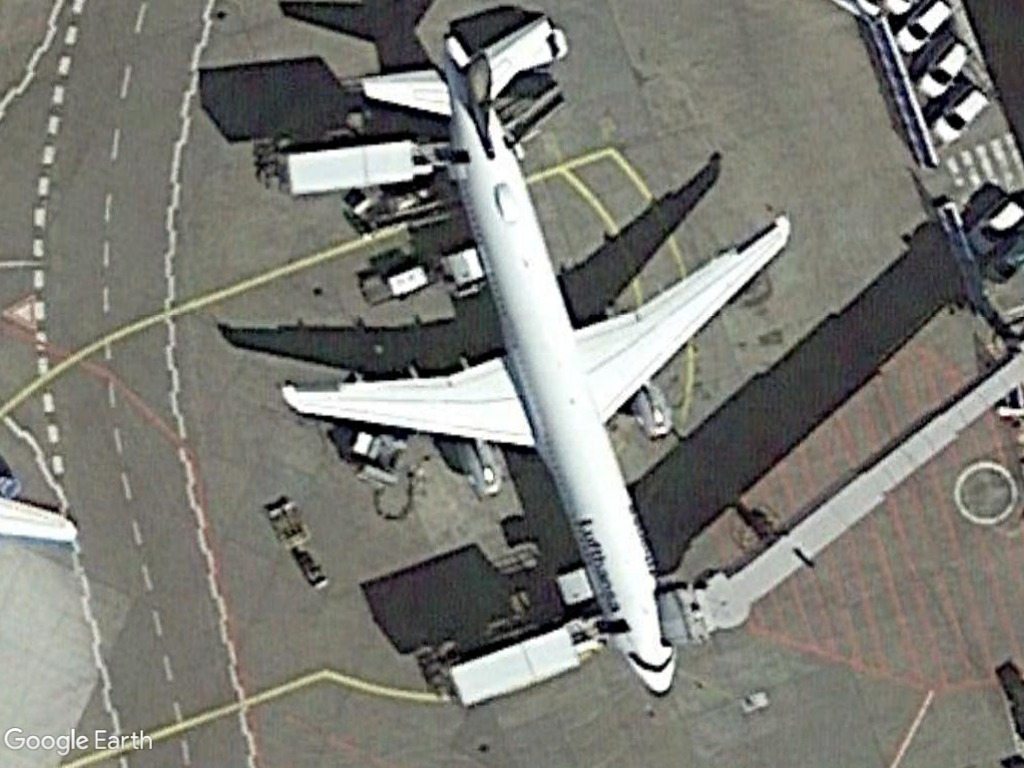airliner: (274, 18, 793, 700)
truck: (446, 614, 604, 710), (268, 135, 444, 197)
